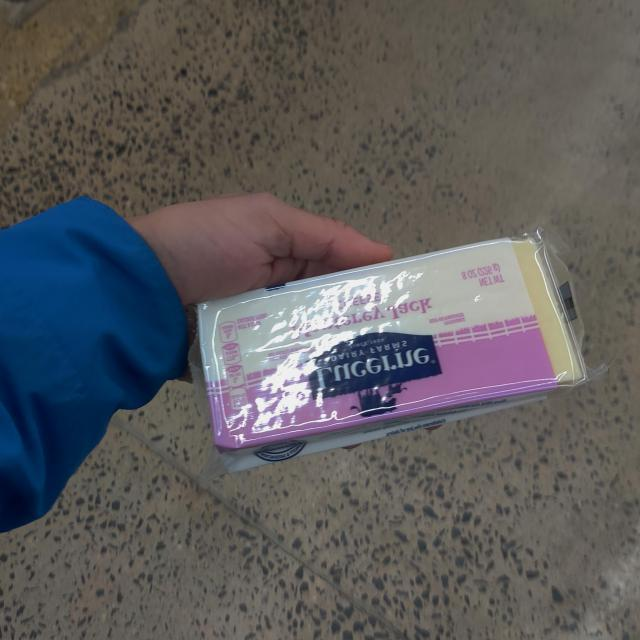Cheese: (188, 236, 590, 464)
